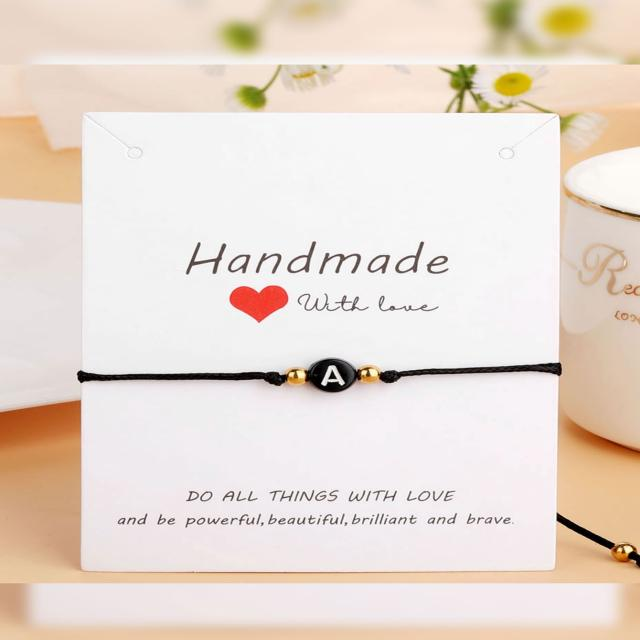bracelet: (64, 321, 629, 428)
